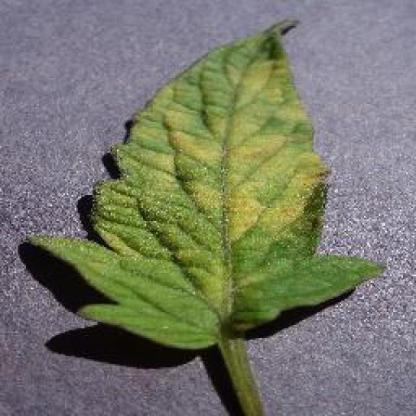Tomato_Leaf_Mold: (36, 19, 386, 338)
